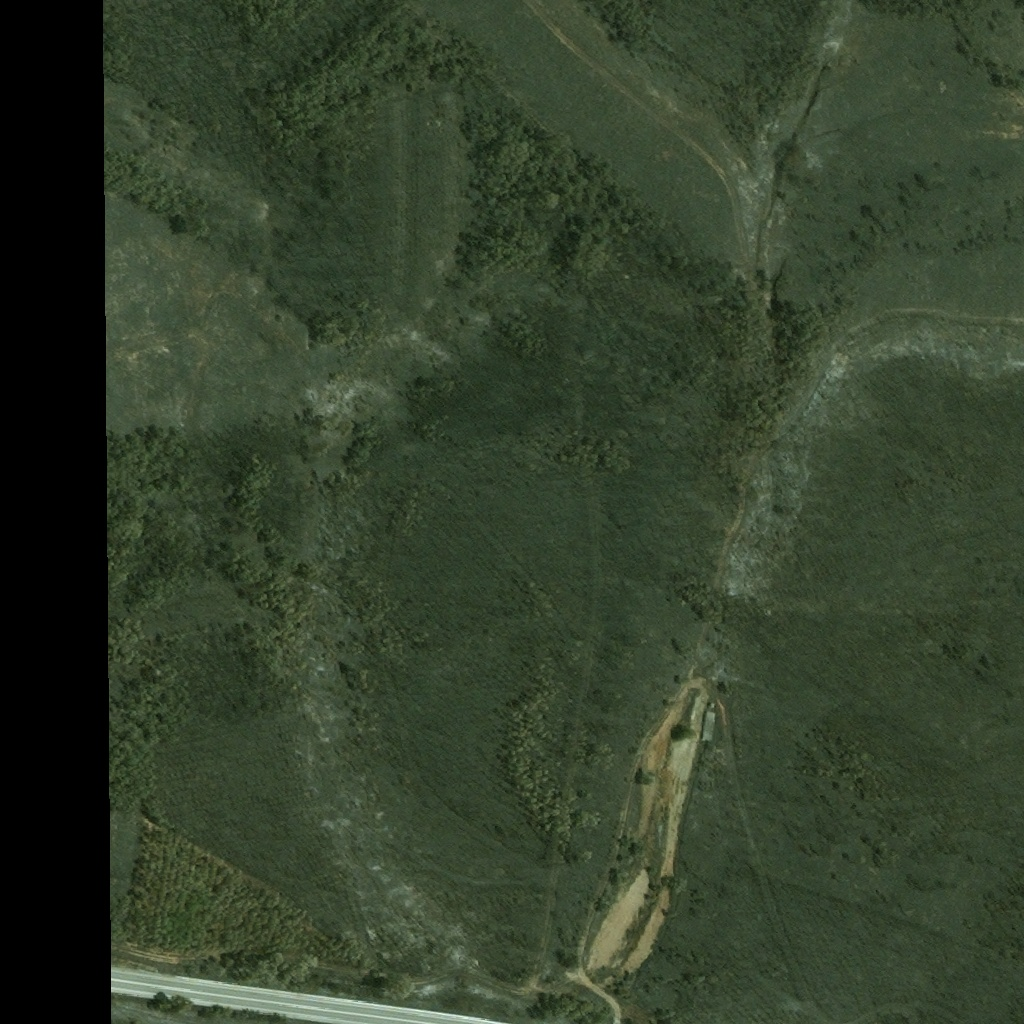0 no-damage: (700, 708, 715, 742)
